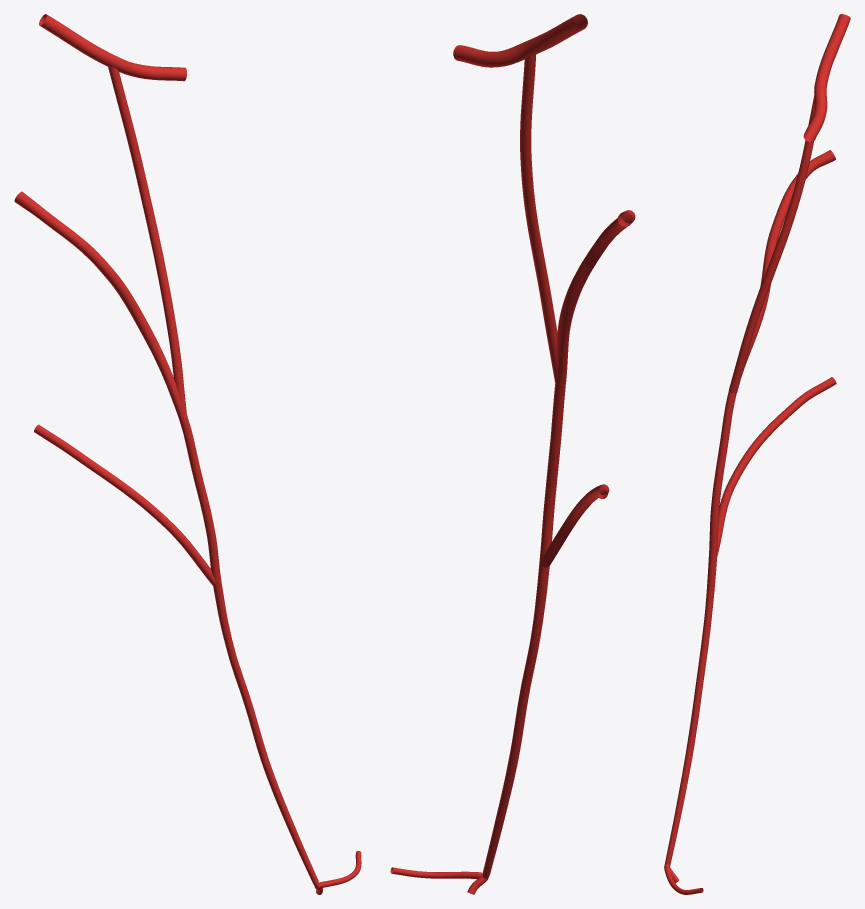
File: circulatorio-median-cubital-vein-l.glb
3 views of the same model, side by side, from view 1: azimuth 30°, elevation 25°; view 2: azimuth 150°, elevation 25°; view 3: azimuth 270°, elevation 25° (orthographic). The views are drawn at different scales.
Parts seen in each view (by area): view 1: Median antebrachial vein.l, Median cubital vein.l; view 2: Median antebrachial vein.l, Median cubital vein.l; view 3: Median antebrachial vein.l, Median cubital vein.l.
Boxes of the visible parts, x1,y1,x2,y2 form: Median antebrachial vein.l: (14, 191, 361, 894); Median cubital vein.l: (39, 14, 186, 415); Median antebrachial vein.l: (390, 210, 635, 894); Median cubital vein.l: (453, 14, 587, 385); Median antebrachial vein.l: (664, 150, 836, 894); Median cubital vein.l: (728, 14, 850, 393).
Size of the model in its own units: 0.0866 by 0.2572 by 0.0553.
